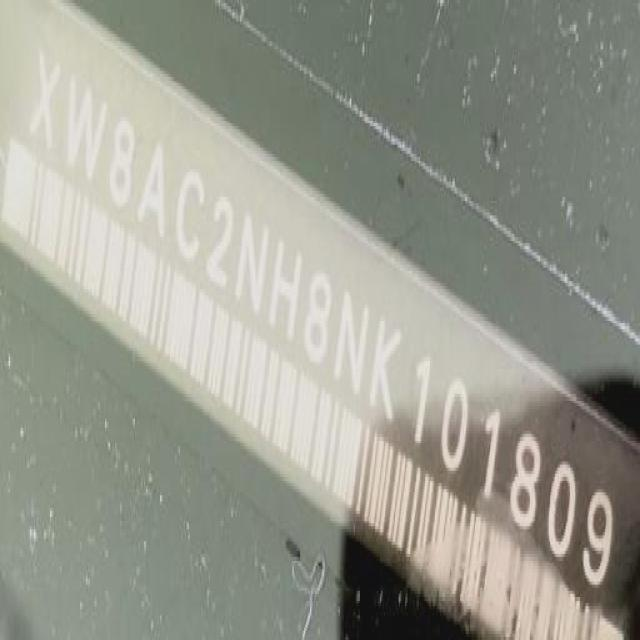0: (540, 451, 586, 568), (434, 368, 477, 486)
1: (468, 386, 510, 513), (402, 342, 441, 459)
2: (202, 187, 241, 301)
8: (103, 108, 141, 220), (510, 428, 540, 534), (305, 268, 331, 362)
9: (575, 486, 625, 612)
A: (131, 129, 173, 247)
C: (171, 157, 211, 274)
H: (262, 236, 306, 348)
K: (367, 311, 411, 436)
N: (232, 203, 276, 328), (332, 286, 378, 403)
W: (59, 71, 114, 195)
X: (19, 42, 69, 164)
